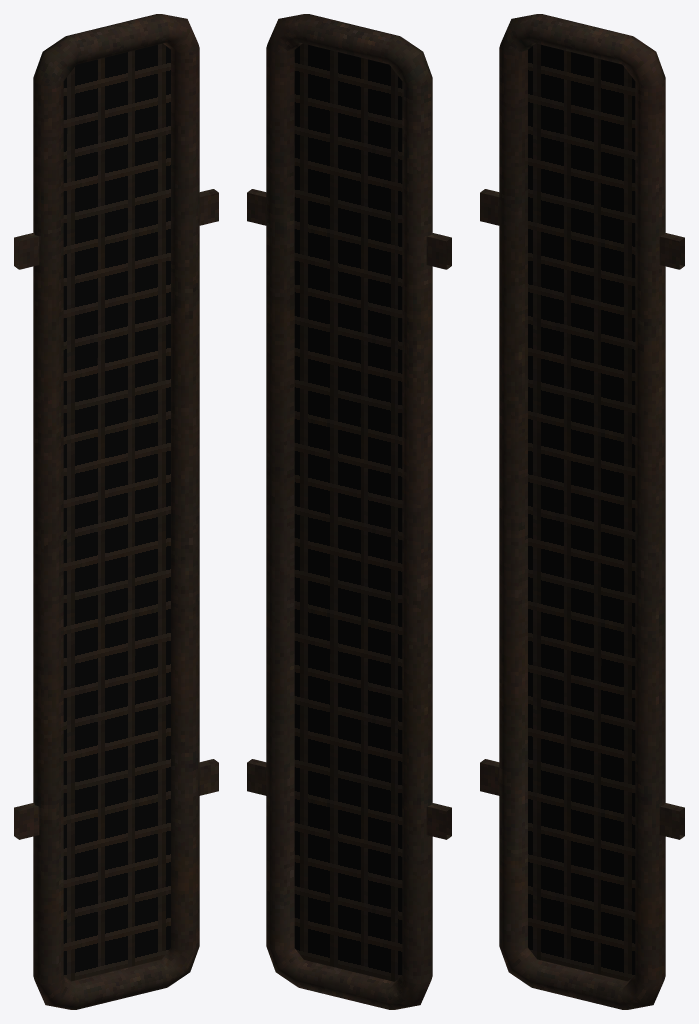
File: fence_e_pillar_1.glb
The picture shows the model from 3 angles, left to right: view 1: azimuth 30°, elevation 25°; view 2: azimuth 150°, elevation 25°; view 3: azimuth 330°, elevation 25°; orthographic projection.
Visible parts, largest first — view 1: fence_e_pillar_1; view 2: fence_e_pillar_1; view 3: fence_e_pillar_1.
Part boxes in pixels (x1,y1,x2,y2): fence_e_pillar_1: [14, 14, 218, 1009]; fence_e_pillar_1: [247, 14, 451, 1009]; fence_e_pillar_1: [480, 14, 684, 1009].
Size of the model in its own units: 0.44 by 2.05 by 0.06.
2 materials, 2 textured.
